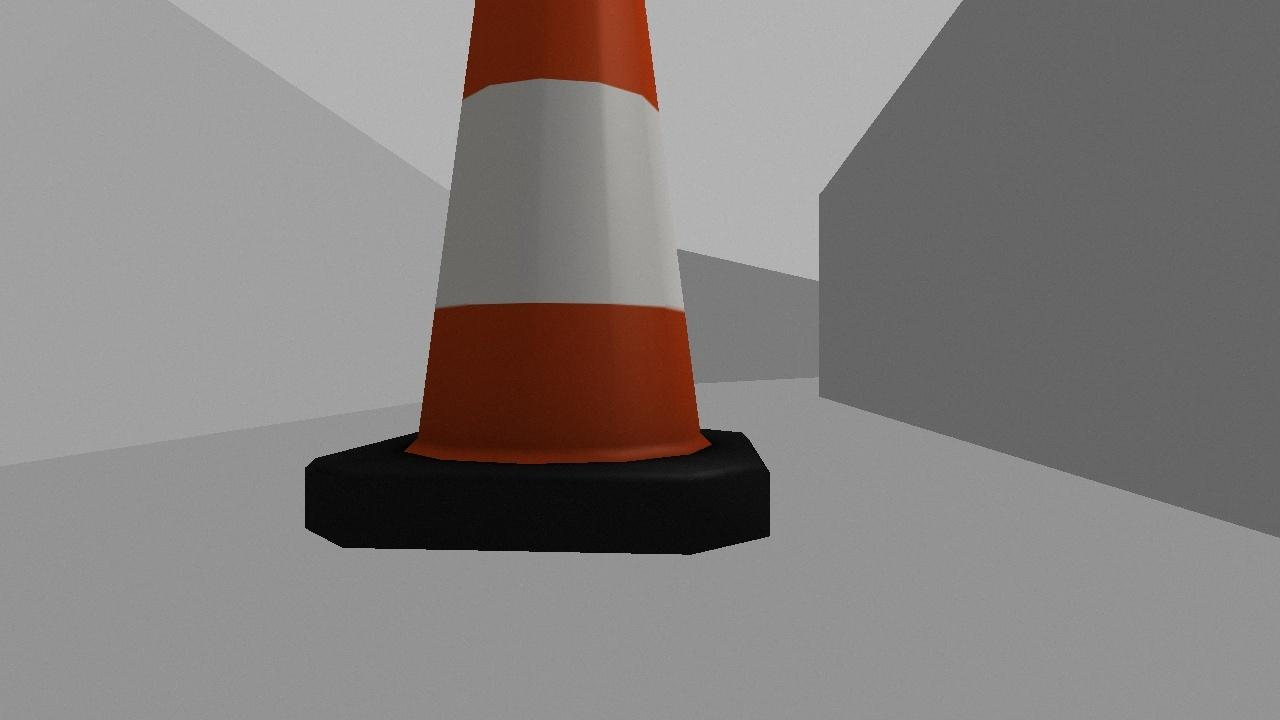cone_barrel: (303, 0, 773, 555)
